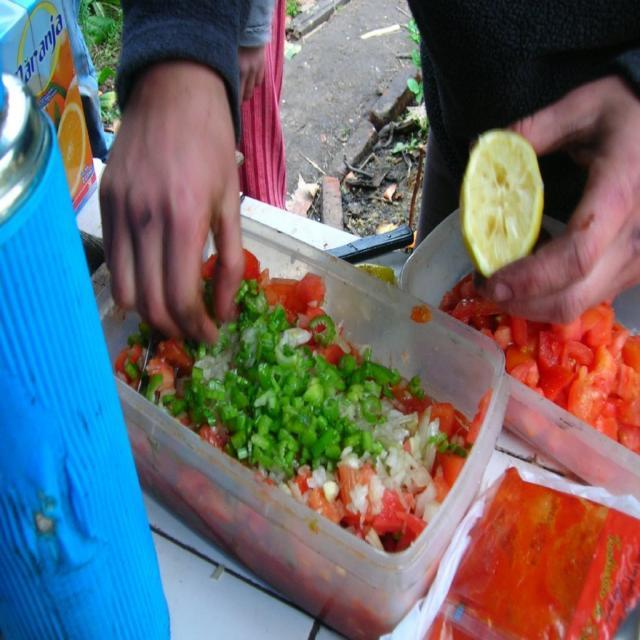Lemon: (465, 138, 560, 276)
